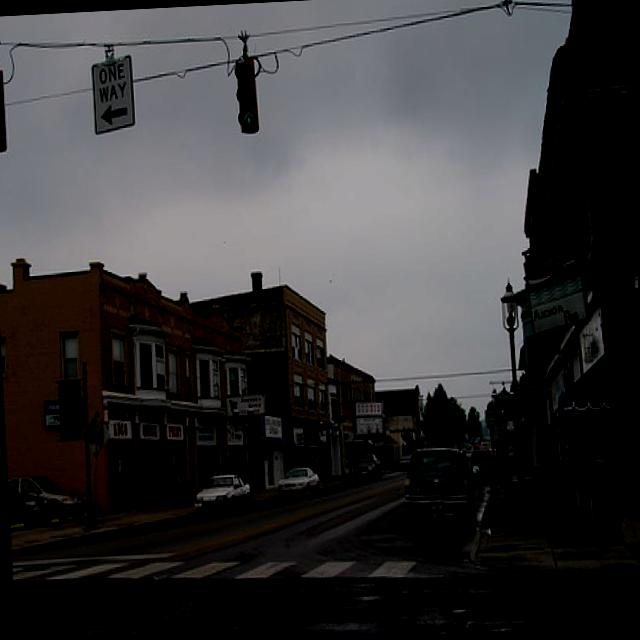Vehicle: (402, 443, 483, 529), (402, 446, 484, 526), (8, 468, 86, 524), (192, 472, 252, 517), (277, 464, 323, 500), (8, 480, 42, 528), (353, 452, 382, 479), (470, 450, 496, 480), (398, 456, 412, 472)
